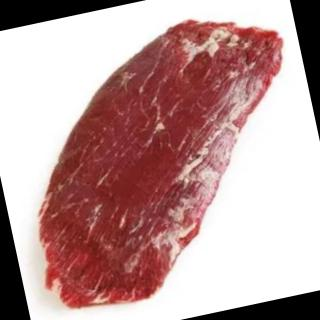Daging Sapi: (5, 2, 320, 320)
